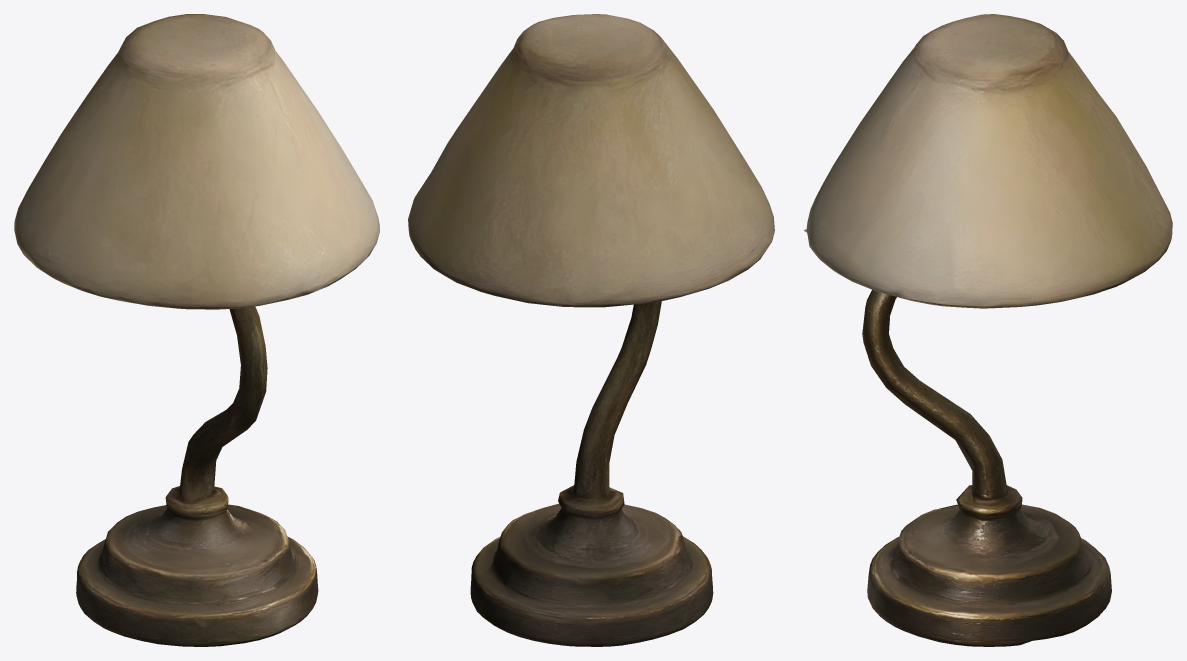
File: table_lamp_a.glb
The picture shows the model from 3 angles, left to right: view 1: azimuth 30°, elevation 25°; view 2: azimuth 150°, elevation 25°; view 3: azimuth 270°, elevation 25°; orthographic projection.
Visible parts, largest first — view 1: tripo_node_7ca07959-9440-4d1d-88cc-70e1daddcbc6; view 2: tripo_node_7ca07959-9440-4d1d-88cc-70e1daddcbc6; view 3: tripo_node_7ca07959-9440-4d1d-88cc-70e1daddcbc6.
Boxes of the visible parts, x1,y1,x2,y2 form: tripo_node_7ca07959-9440-4d1d-88cc-70e1daddcbc6: [14, 14, 379, 646]; tripo_node_7ca07959-9440-4d1d-88cc-70e1daddcbc6: [408, 14, 774, 646]; tripo_node_7ca07959-9440-4d1d-88cc-70e1daddcbc6: [803, 14, 1172, 646].
Bounding box in the file's own units: 0.5922 × 1 × 0.5975.
1 material, 1 textured.
